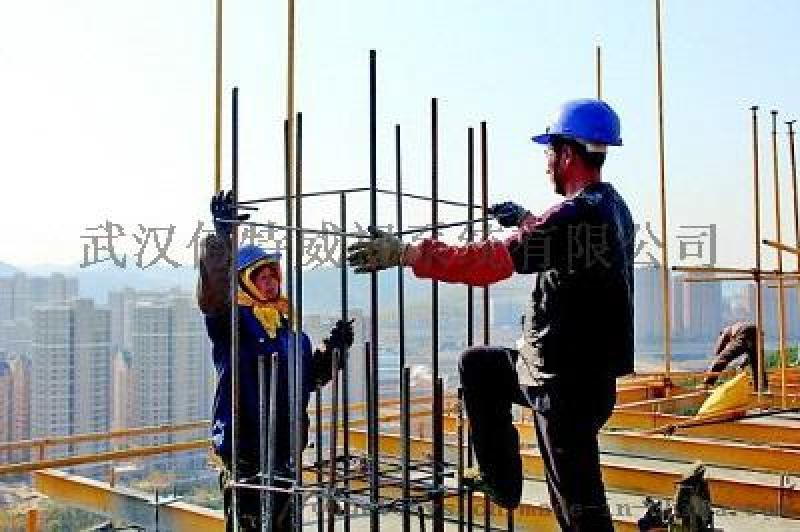helmet: (531, 99, 625, 150), (235, 246, 285, 272)
